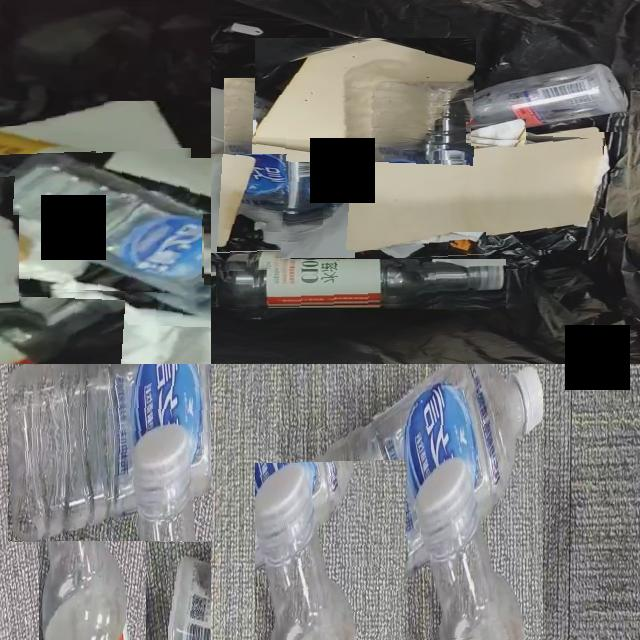bottle: (281, 364, 543, 640), (8, 364, 211, 541), (0, 158, 211, 302), (225, 80, 355, 258), (39, 423, 128, 640), (255, 464, 357, 640), (216, 259, 506, 308), (459, 65, 624, 132), (0, 300, 126, 364)
carton: (323, 135, 604, 250), (256, 40, 475, 160)
dixie_cup: (0, 131, 97, 216)
paper: (0, 101, 193, 207), (0, 296, 211, 364), (211, 154, 283, 271), (381, 232, 484, 260), (471, 120, 526, 140), (211, 88, 228, 142)
